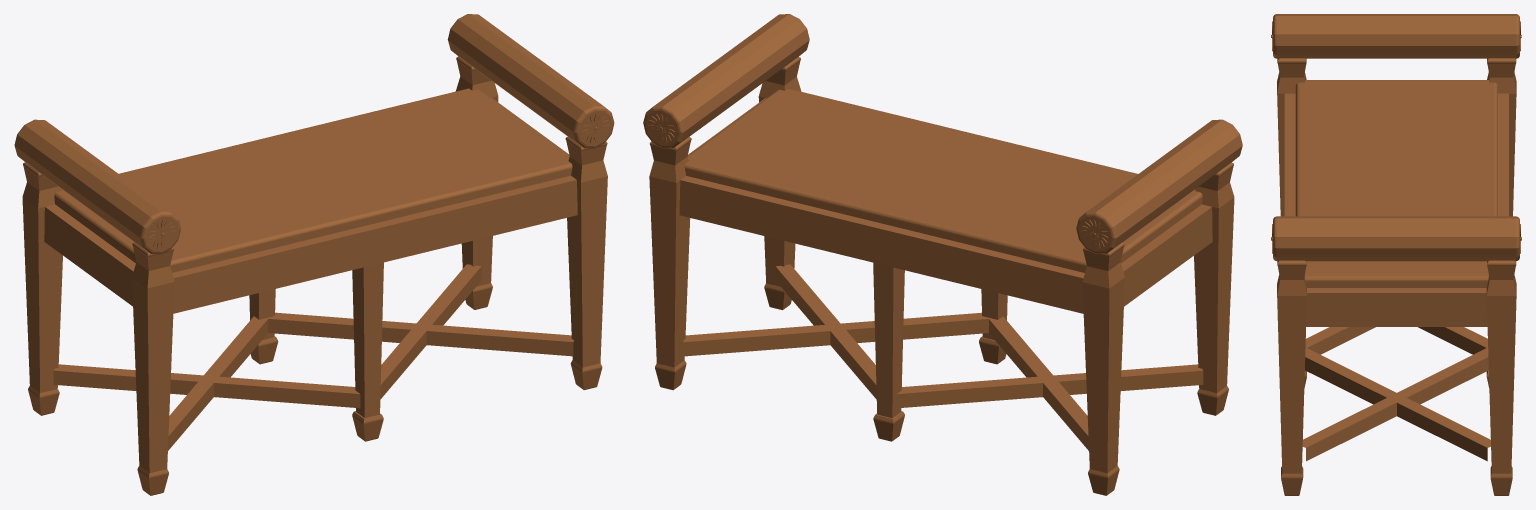
File: bench-by-cmht-oculus-5r6YpmJ60eo.glb
The picture shows the model from 3 angles, left to right: view 1: azimuth 30°, elevation 25°; view 2: azimuth 150°, elevation 25°; view 3: azimuth 270°, elevation 25°; orthographic projection. The views are drawn at different scales.
Parts seen in each view (by area): view 1: Node; view 2: Node; view 3: Node.
Boxes of the visible parts, x1=… form: Node: x1=14, y1=14, x2=614, y2=495; Node: x1=643, y1=14, x2=1242, y2=495; Node: x1=1271, y1=14, x2=1521, y2=495.
Bounding box in the file's own units: 44.53 × 25.75 × 21.31.
